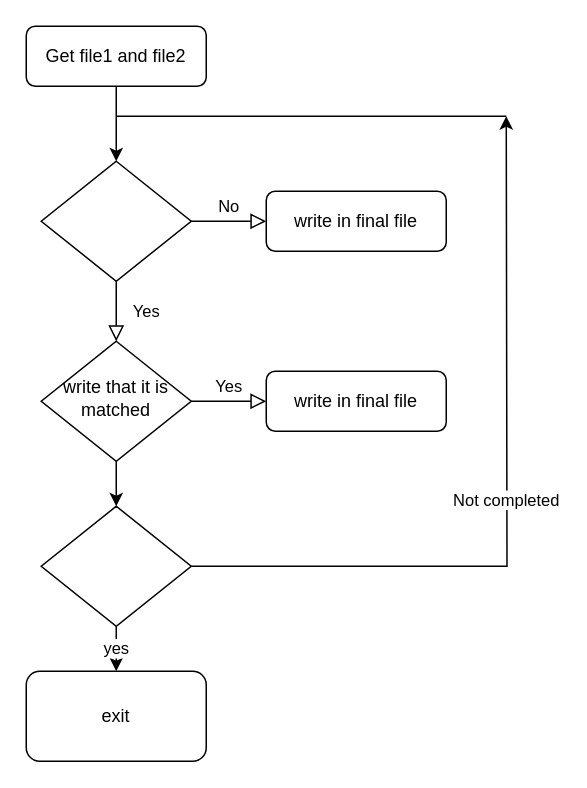
This 587x788 diagram has some shape labels left out. Each missing label, with the box of its shape:
is completed?: (40, 505, 191, 626)
Match if data same: (40, 160, 191, 281)
